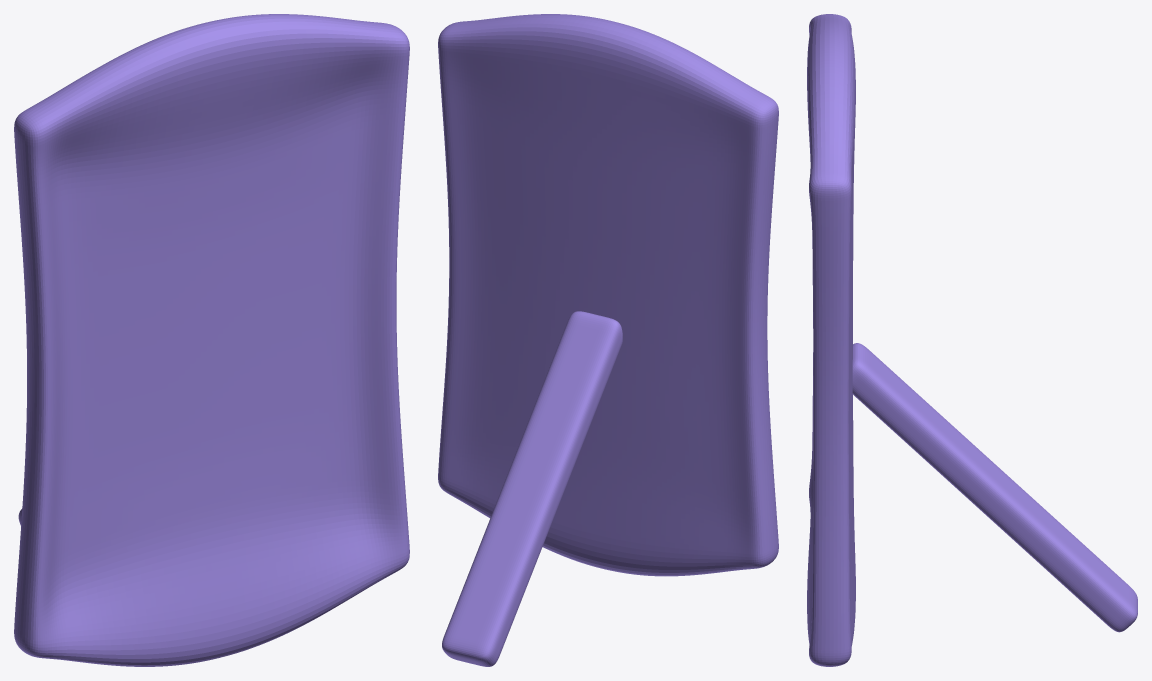
The model's file is mirror frame.fbx.
3 views of the same model, side by side, from view 1: azimuth 30°, elevation 25°; view 2: azimuth 150°, elevation 25°; view 3: azimuth 270°, elevation 25° (orthographic). The views are drawn at different scales.
Parts seen in each view (by area): view 1: Mirror; view 2: Mirror; view 3: Mirror.
Part boxes in pixels (x1,y1,x2,y2): Mirror: [14, 14, 409, 666]; Mirror: [438, 14, 778, 666]; Mirror: [807, 14, 1137, 666].
Bounding box in the file's own units: 353 × 555 × 289.
